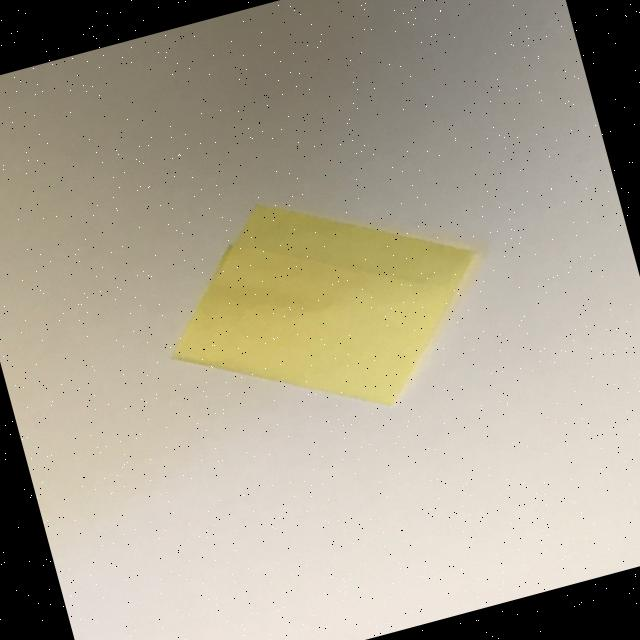paper: (138, 150, 510, 458)
